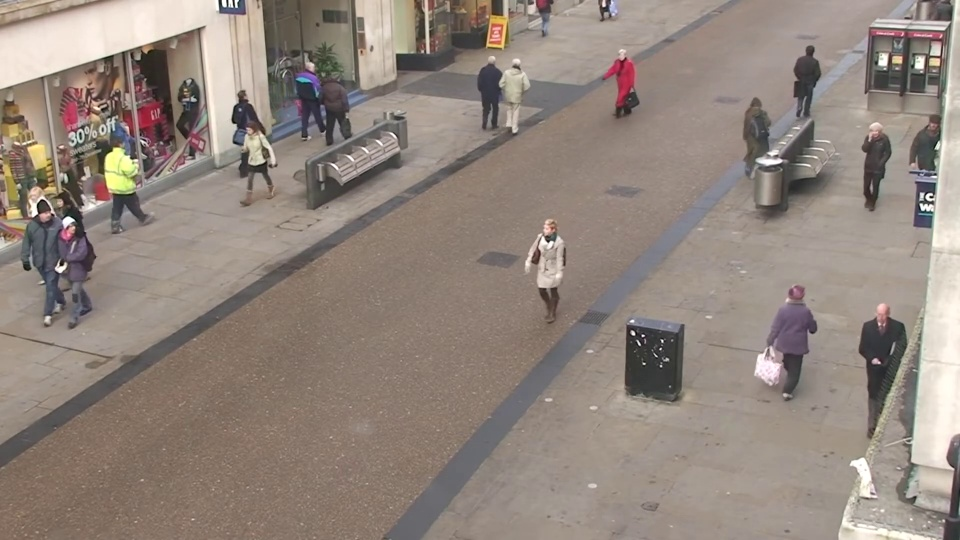pedestrian: (848, 298, 905, 444), (771, 269, 821, 406), (43, 213, 99, 332), (20, 203, 77, 319), (6, 185, 62, 297), (33, 192, 88, 306), (525, 220, 565, 344), (905, 114, 952, 213), (849, 123, 891, 222), (112, 129, 154, 225), (227, 120, 263, 215), (740, 92, 773, 182), (236, 84, 269, 169), (794, 40, 825, 118), (328, 66, 357, 147), (302, 57, 331, 135), (505, 54, 533, 132), (480, 50, 507, 127), (604, 49, 630, 126)
